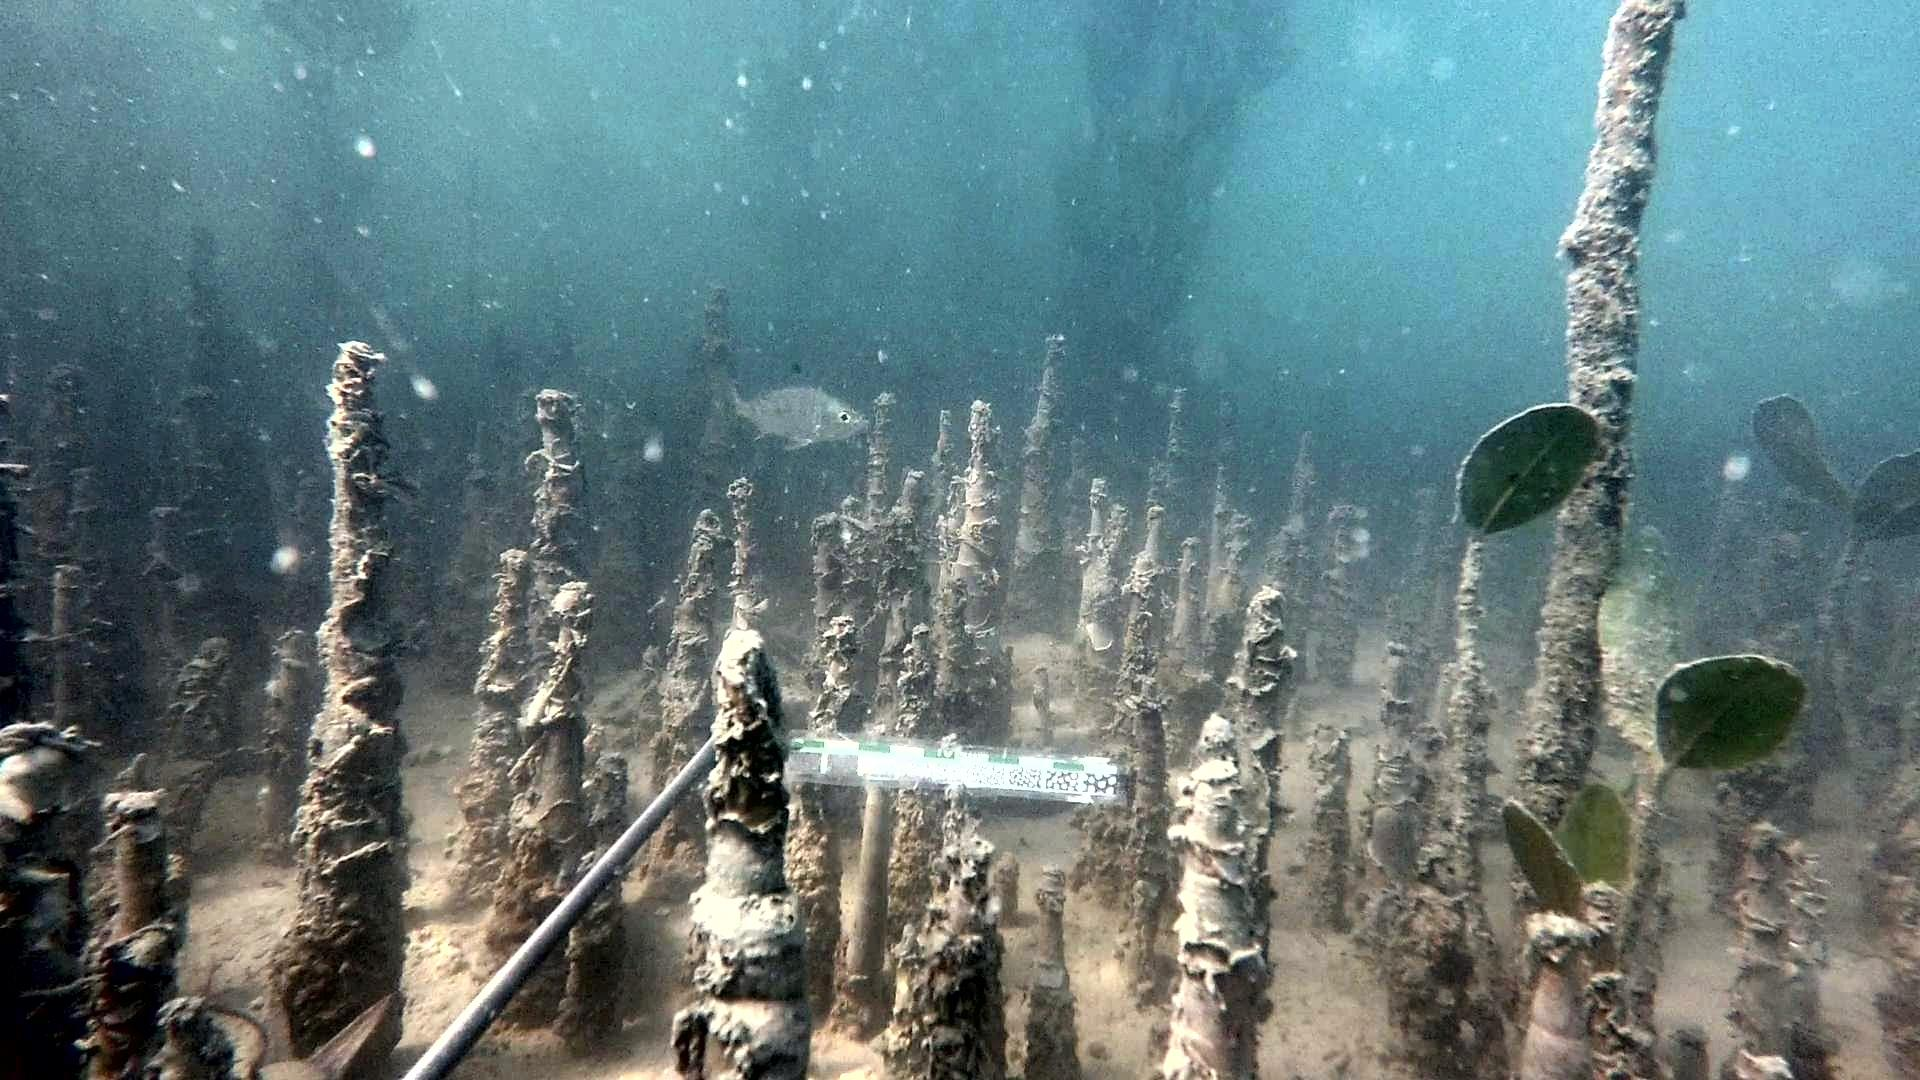gerres: (718, 360, 868, 452)
